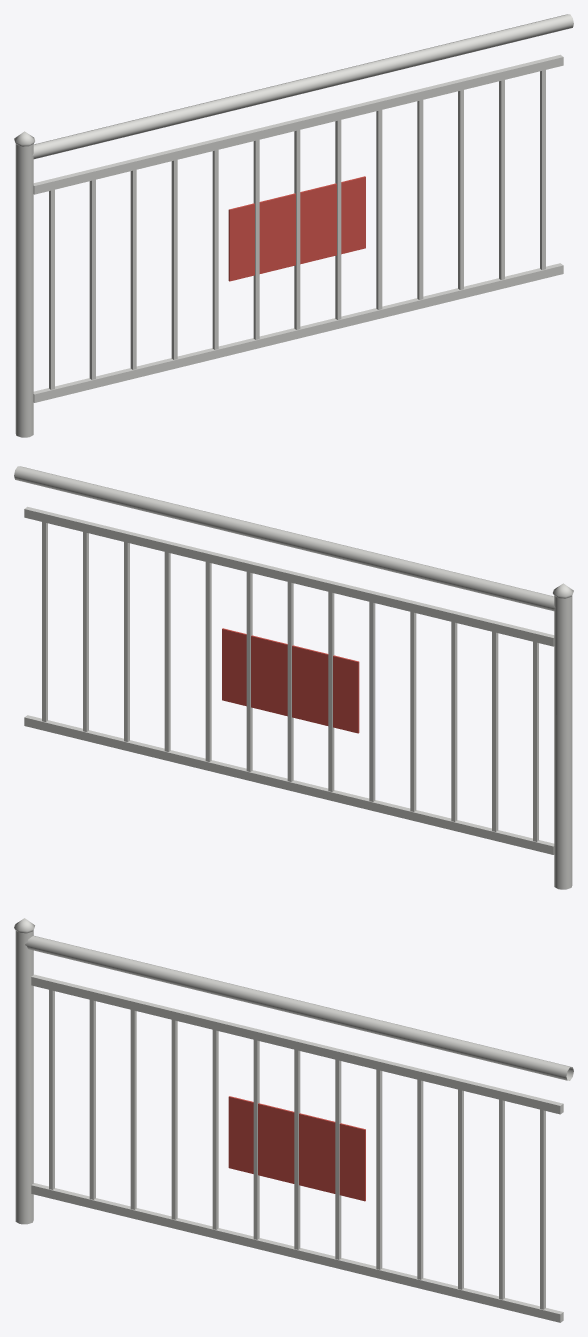
The model's file is barrier_pedestrian.glb.
The picture shows the model from 3 angles, top to bottom: view 1: azimuth 30°, elevation 25°; view 2: azimuth 150°, elevation 25°; view 3: azimuth 330°, elevation 25°; orthographic projection.
Parts seen in each view (by area): view 1: barrier_pedestrian; view 2: barrier_pedestrian; view 3: barrier_pedestrian.
Part boxes in pixels (left/top/right/bottom): barrier_pedestrian: left=14, top=14, right=573, bottom=437; barrier_pedestrian: left=14, top=466, right=573, bottom=889; barrier_pedestrian: left=14, top=918, right=573, bottom=1322.
Size of the model in its own units: 2.03 by 1.06 by 0.07.
